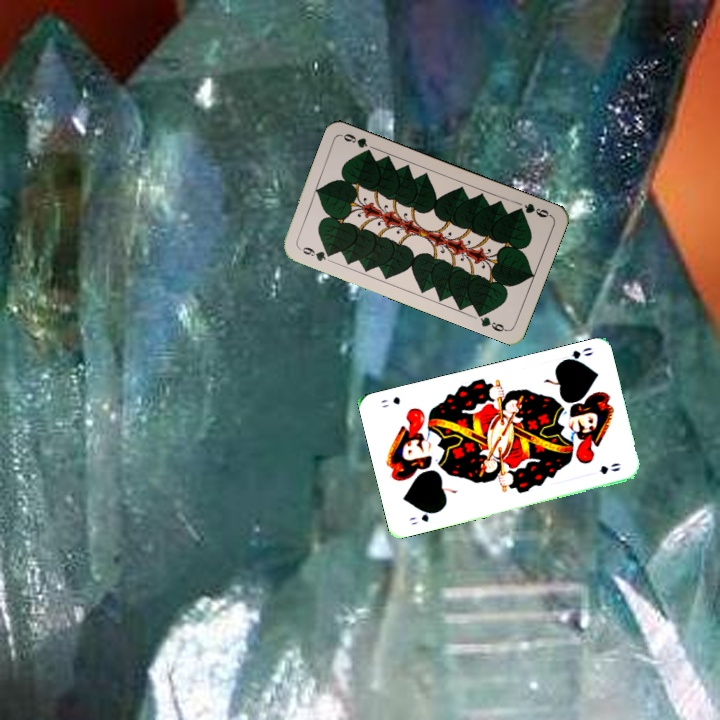G9: (512, 199, 554, 220), (295, 243, 335, 264)
GO: (557, 343, 596, 365), (405, 507, 441, 528)
